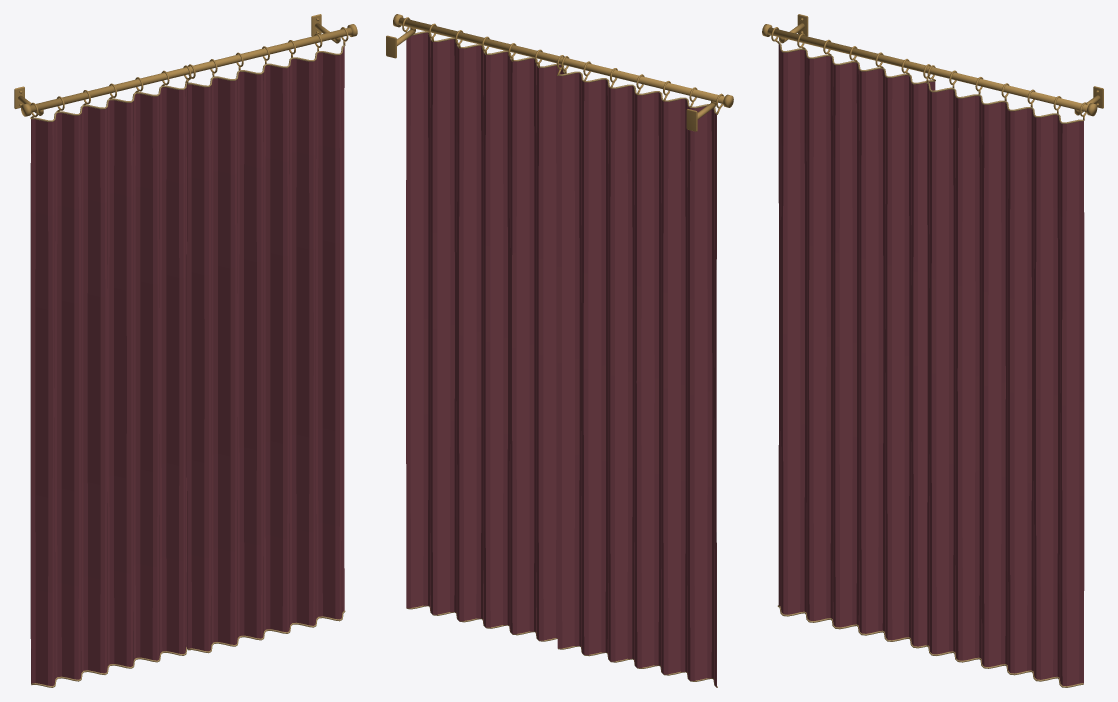
Rendered from rpg-mansion-short-paired-curtain-01.glb.
3 renders of one model, left to right at view 1: azimuth 30°, elevation 25°; view 2: azimuth 150°, elevation 25°; view 3: azimuth 330°, elevation 25°, orthographic.
Visible parts, largest first — view 1: rpg-mansion-short-paired-curtain-01; view 2: rpg-mansion-short-paired-curtain-01; view 3: rpg-mansion-short-paired-curtain-01.
Part boxes in pixels (left/top/right/bottom): rpg-mansion-short-paired-curtain-01: left=14, top=14, right=357, bottom=687; rpg-mansion-short-paired-curtain-01: left=386, top=14, right=733, bottom=687; rpg-mansion-short-paired-curtain-01: left=762, top=14, right=1103, bottom=687.
Size of the model in its own units: 1.22 by 2.07 by 0.1978.
